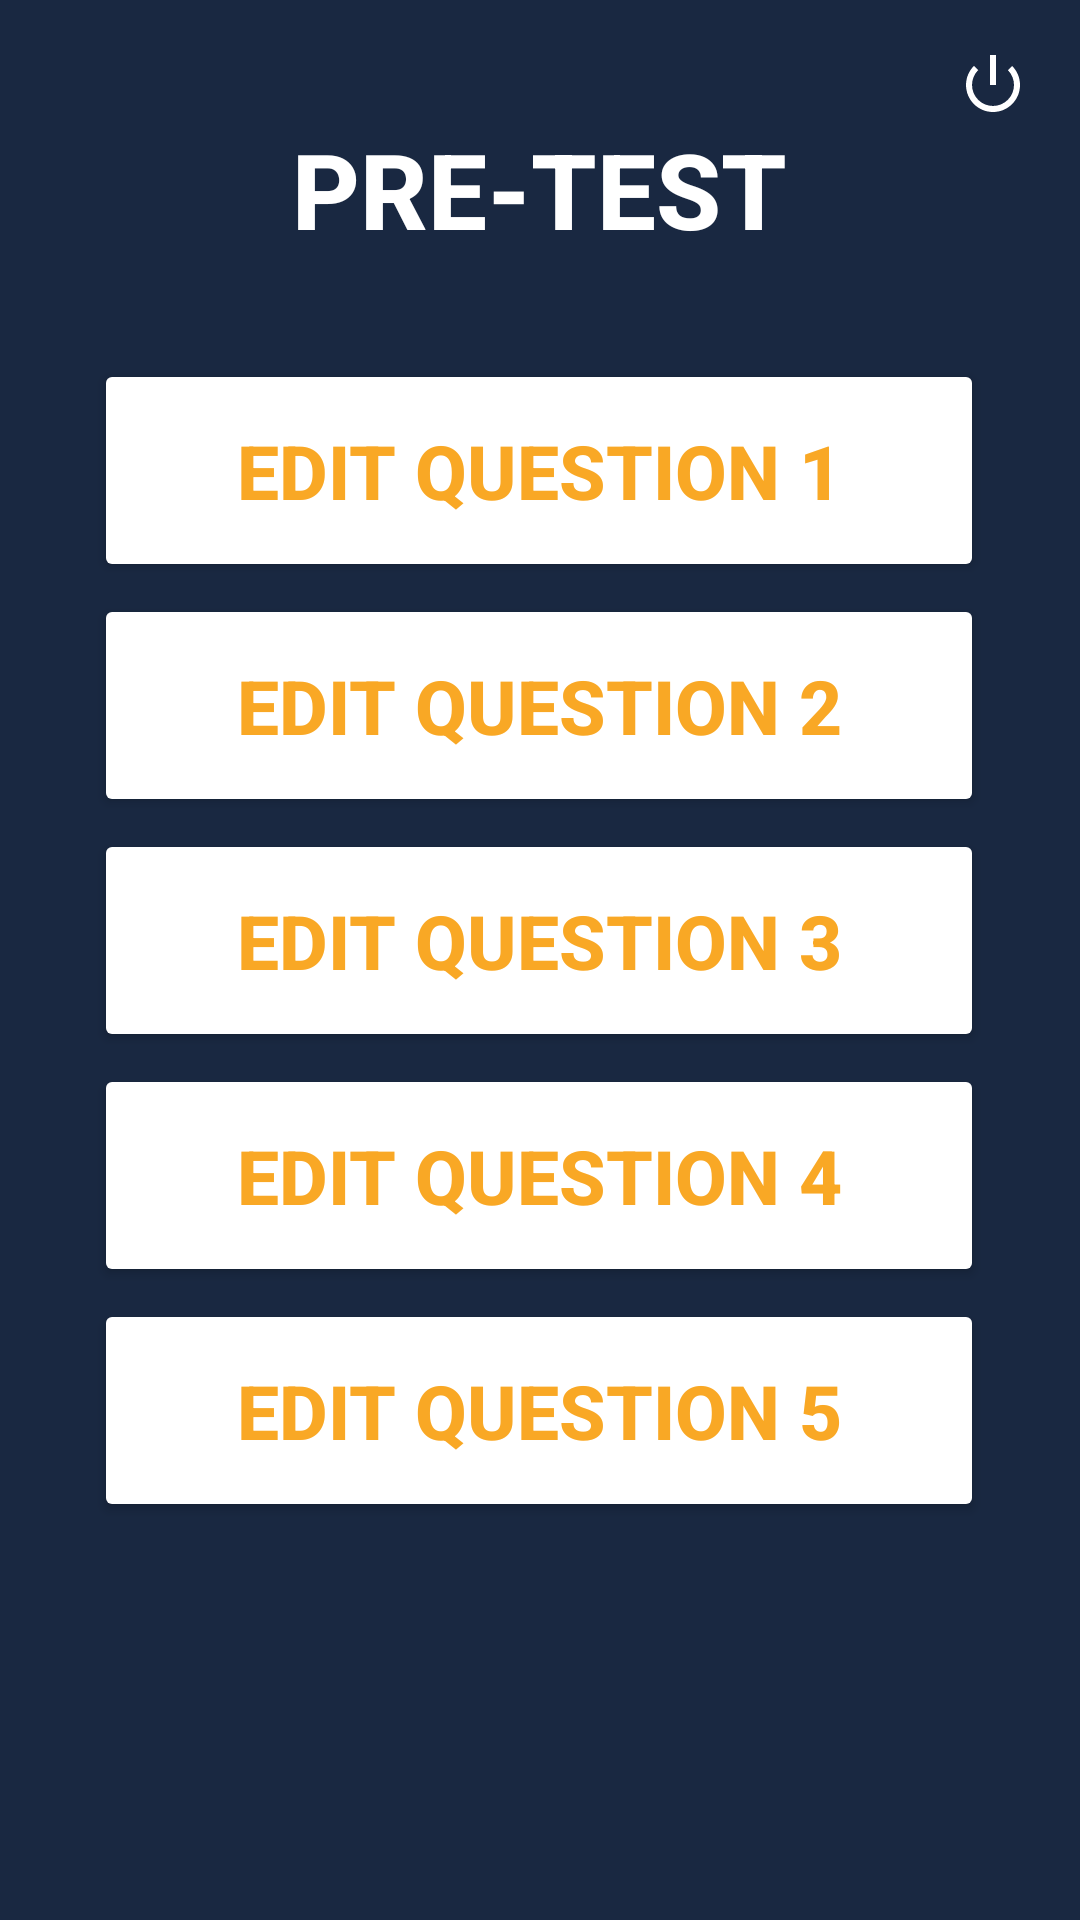

Screen size 1080 × 1920. Icon name, then its box in pixels as (x1, y1, x2, y2):
lock power off: (966, 55, 1020, 112)
